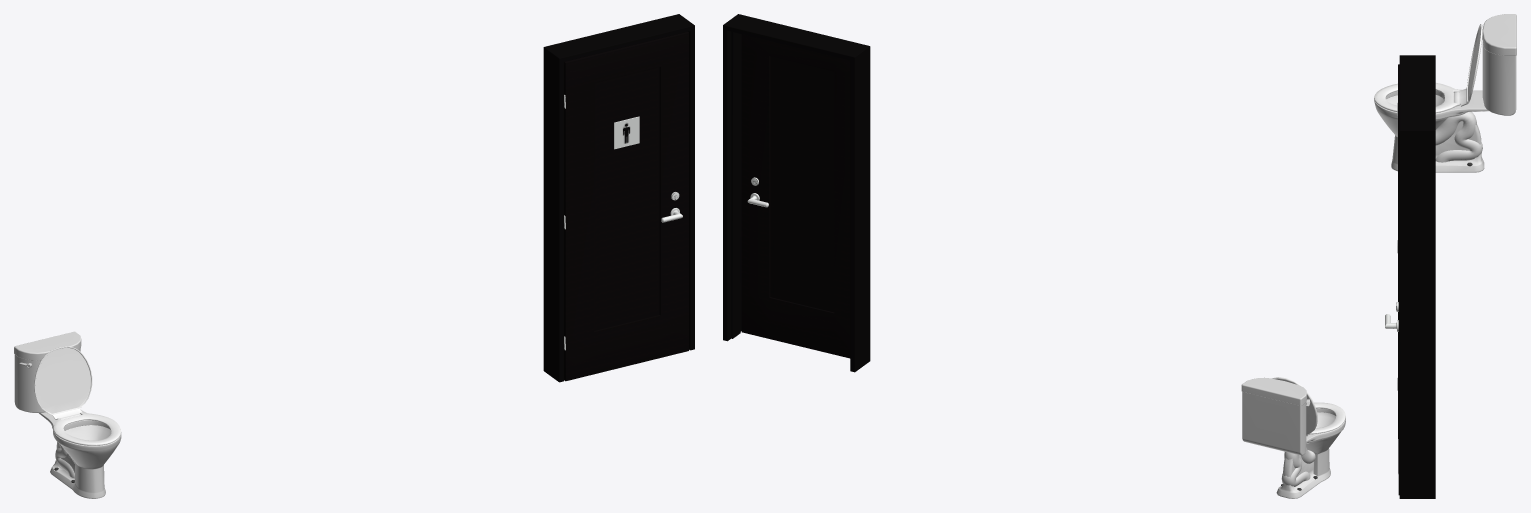
File: toilet.fbx
3 renders of one model, left to right at view 1: azimuth 30°, elevation 25°; view 2: azimuth 150°, elevation 25°; view 3: azimuth 270°, elevation 25°, orthographic. The views are drawn at different scales.
Parts seen in each view (by area): view 1: Door_Gents, Doorframe_Gents, Circle.004; view 2: Door_Gents, Doorframe_Gents, Circle.004; view 3: Doorframe_Gents, Circle.004, Door_Gents.
Boxes of the visible parts, <box> form: Door_Gents: <box>564,32,688,381</box>; Doorframe_Gents: <box>543,14,694,382</box>; Circle.004: <box>14,331,121,498</box>; Door_Gents: <box>741,34,850,358</box>; Doorframe_Gents: <box>723,14,870,372</box>; Circle.004: <box>1241,377,1345,498</box>; Doorframe_Gents: <box>1399,55,1435,498</box>; Circle.004: <box>1374,14,1516,172</box>; Door_Gents: <box>1385,64,1399,495</box>.
Bounding box in the file's own units: 416 × 204 × 71.69.
Materials: 5 (1 with a texture image).
